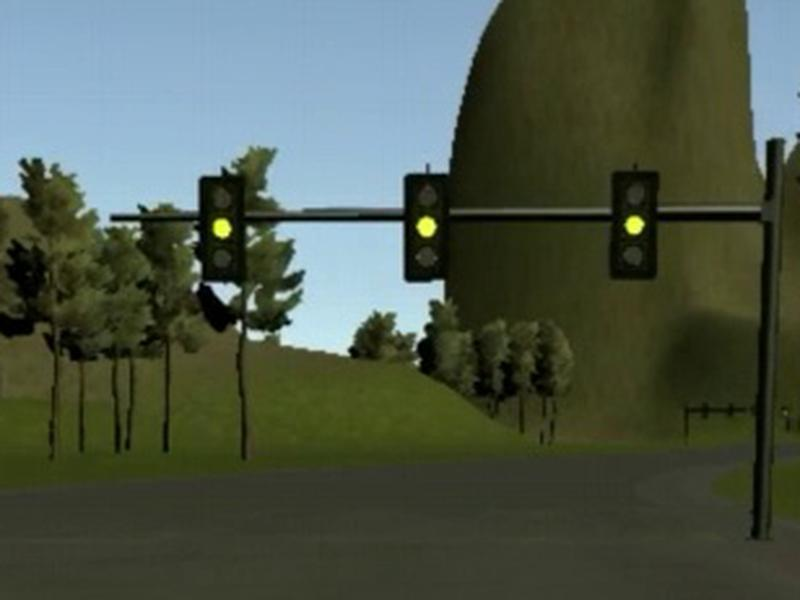Yellow: (610, 168, 660, 281), (402, 173, 451, 284), (200, 174, 245, 282)
